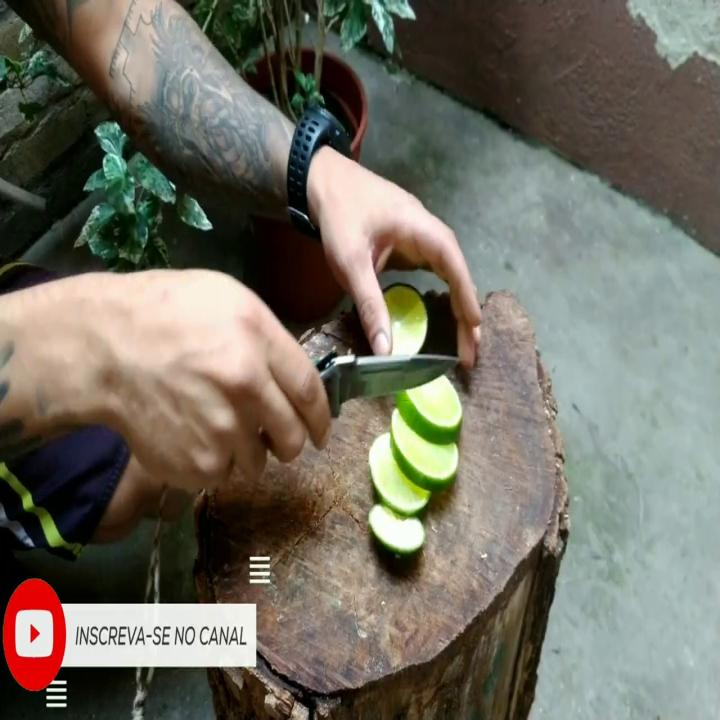knife: (310, 345, 462, 427)
